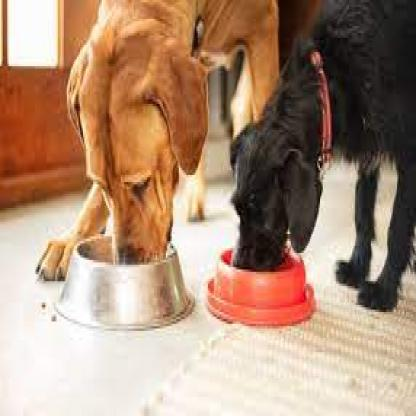dog: (56, 0, 290, 314), (226, 1, 413, 323)
